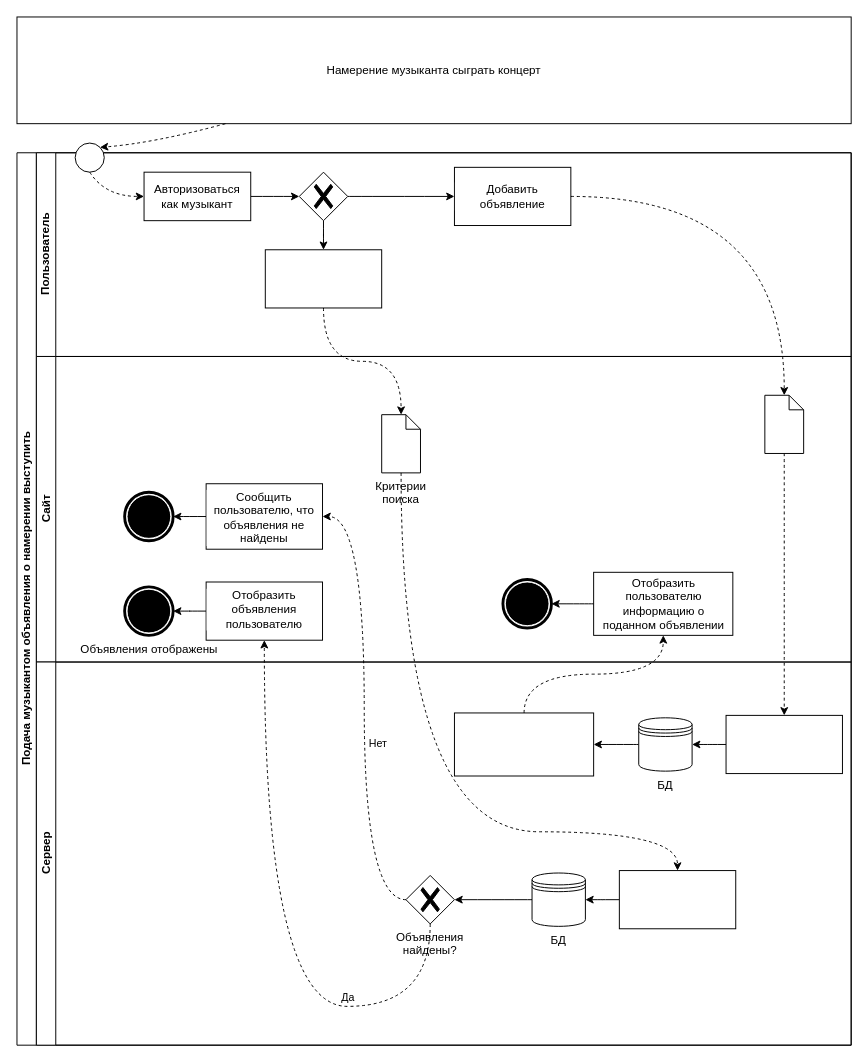
This 868x1062 diagram has some shape labels left out. Each missing label, with the centre of its shape:
"Добавить объявление в БД" goes at point (783, 744).
"Найти объявление по критериям" goes at point (323, 278).
"Найти объявление по критериям в БД" goes at point (677, 899).
"Объявление и требования" goes at point (784, 423).
"Объявление подано" goes at point (526, 603).
"Объявления не найдены" goes at point (148, 516).
"Получить информацию о поданном объявлении" goes at point (523, 744).
